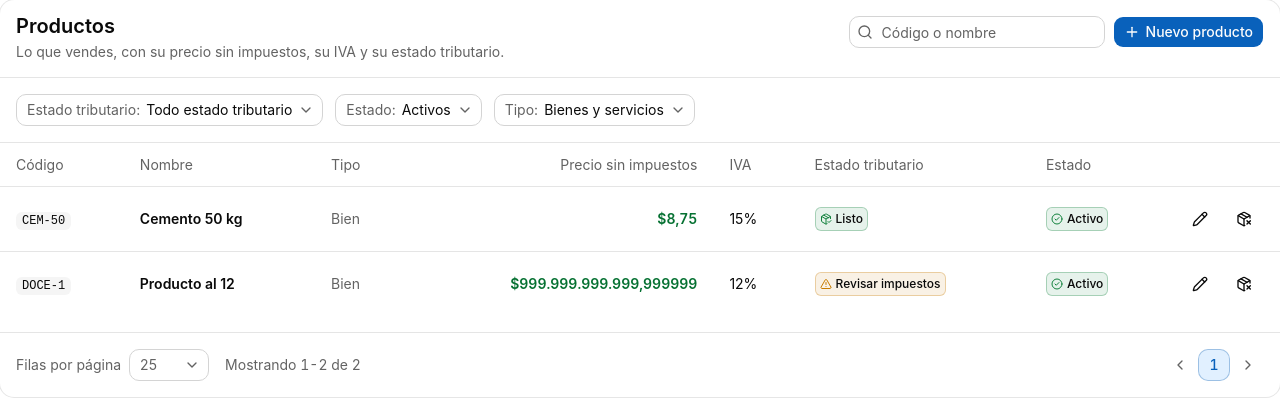
pantalla Productos › lista código, nombre, tipo, precio exacto, IVA y estado tributario, con recuentos en los filtros
Expected: the text "$999.999.999.999,999999" is shown, [510,275,697,292]
Expected: the text "Revisar impuestos" is shown, [836,276,940,292]
Click the dropdown labelled "Estado tributario" at coordinates (170, 110), box [16,94,323,126]
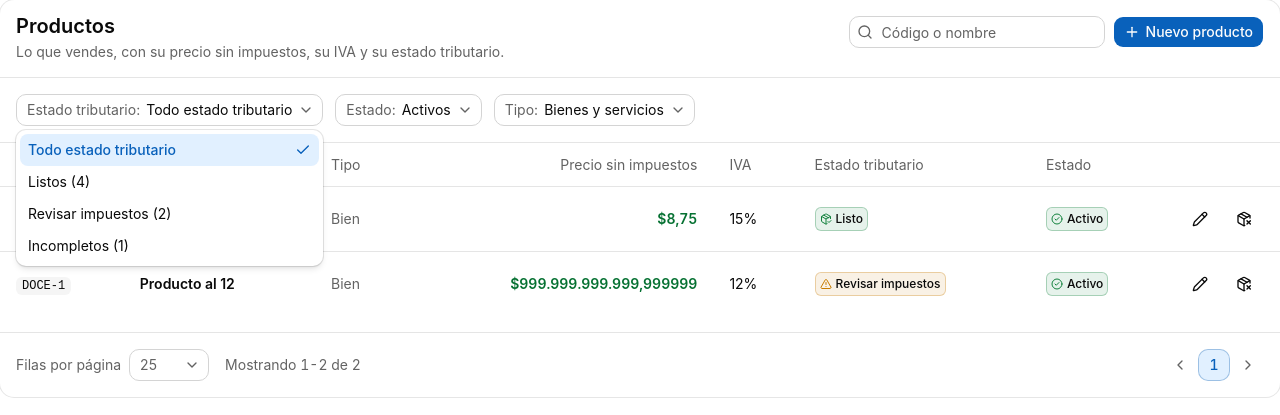
Expected: the option "Revisar impuestos (2)" is shown, [28,205,171,222]
